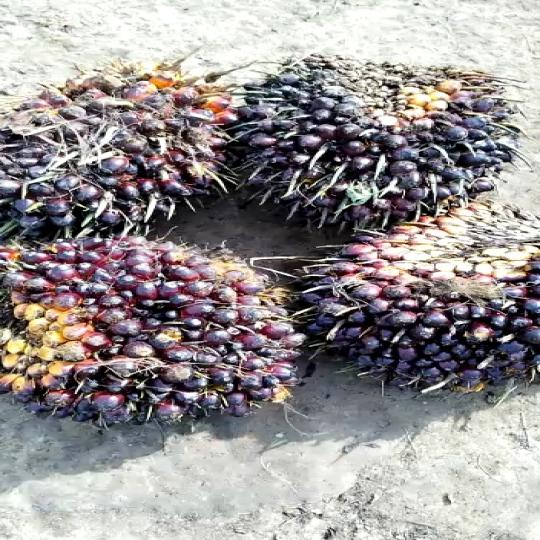kurang masak: (0, 227, 301, 437), (216, 50, 503, 232), (260, 216, 540, 394), (0, 49, 213, 229)
